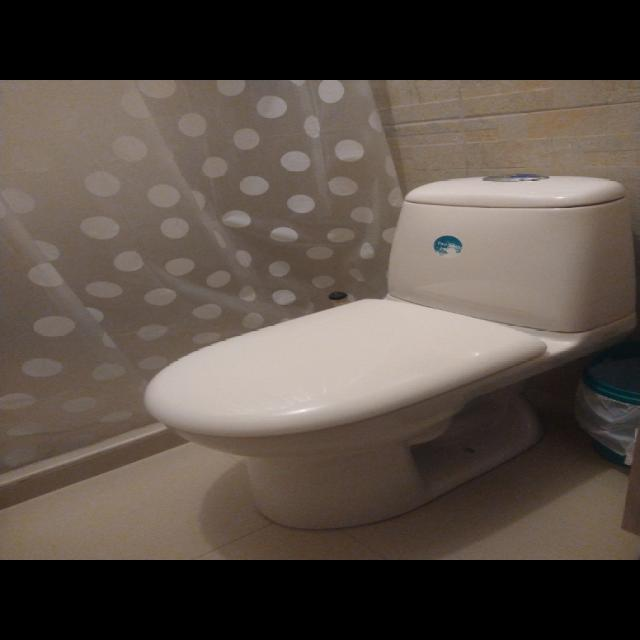toilet: (142, 172, 636, 530)
